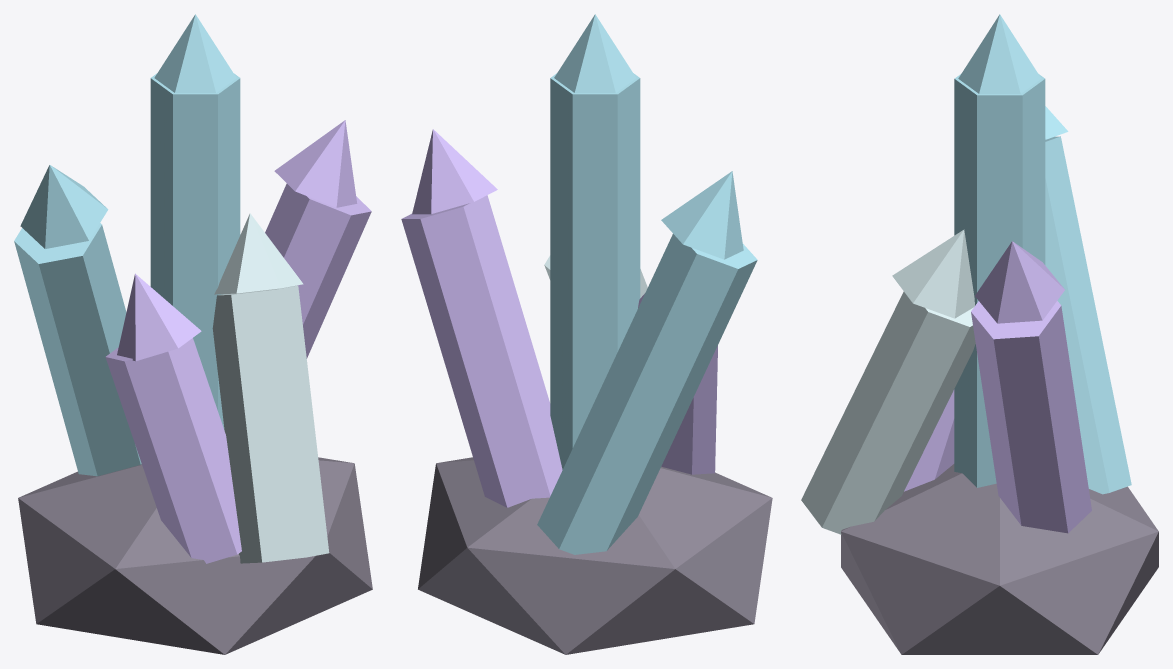
File: pedra_brilhante.glb
3 renders of one model, left to right at view 1: azimuth 30°, elevation 25°; view 2: azimuth 150°, elevation 25°; view 3: azimuth 270°, elevation 25°, orthographic.
Visible parts, largest first — view 1: base, cristal_3, cristal_0, cristal_2, cristal_4, cristal_1, ponta_2, ponta_1, ponta_4, ponta_3, ponta_0; view 2: base, cristal_2, cristal_0, cristal_1, ponta_2, ponta_1, cristal_4, ponta_0; view 3: base, cristal_3, cristal_0, cristal_1, cristal_2, ponta_1, ponta_3, ponta_0, cristal_4.
Part boxes in pixels (bbox=[...]): base: bbox=[18, 457, 372, 654]; cristal_3: bbox=[212, 285, 329, 563]; cristal_0: bbox=[150, 73, 240, 430]; cristal_2: bbox=[14, 223, 141, 476]; cristal_4: bbox=[105, 338, 241, 563]; cristal_1: bbox=[265, 183, 371, 358]; ponta_2: bbox=[20, 165, 108, 248]; ponta_1: bbox=[274, 120, 357, 207]; ponta_4: bbox=[117, 273, 201, 361]; ponta_3: bbox=[214, 213, 303, 294]; ponta_0: bbox=[154, 14, 236, 92]; base: bbox=[418, 457, 772, 654]; cristal_2: bbox=[537, 234, 757, 554]; cristal_0: bbox=[550, 73, 640, 469]; cristal_1: bbox=[401, 195, 562, 507]; ponta_2: bbox=[661, 171, 743, 259]; ponta_1: bbox=[412, 129, 497, 214]; cristal_4: bbox=[661, 345, 717, 474]; ponta_0: bbox=[554, 14, 635, 92]; base: bbox=[841, 464, 1158, 654]; cristal_3: bbox=[801, 291, 975, 534]; cristal_0: bbox=[954, 74, 1045, 487]; cristal_1: bbox=[971, 301, 1091, 533]; cristal_2: bbox=[1045, 136, 1131, 494]; ponta_1: bbox=[975, 241, 1064, 323]; ponta_3: bbox=[892, 229, 974, 318]; ponta_0: bbox=[958, 14, 1041, 93]; cristal_4: bbox=[904, 389, 954, 491].
Bounding box in the file's own units: 0.6058 × 1.07 × 0.5512.
